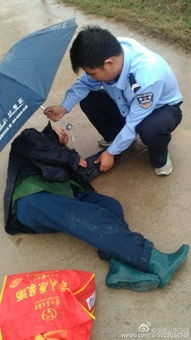falling: (1, 109, 187, 302)
